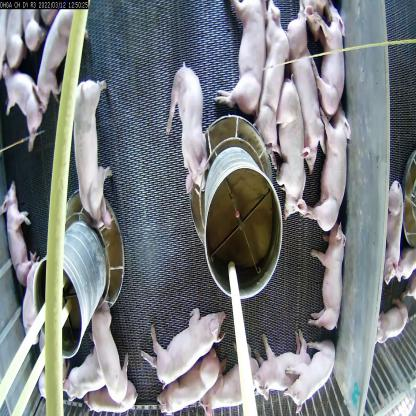Pig: (62, 75, 112, 224), (150, 296, 229, 384), (283, 1, 323, 174), (217, 0, 265, 117), (31, 14, 93, 103), (316, 101, 354, 233), (82, 291, 126, 405), (153, 349, 225, 415), (276, 72, 307, 219), (254, 2, 283, 157), (1, 59, 50, 149), (249, 323, 310, 394), (2, 180, 40, 293), (312, 8, 351, 117), (308, 223, 345, 337), (289, 342, 338, 414), (202, 360, 266, 415), (59, 349, 109, 403)
